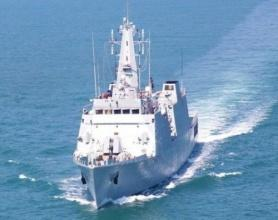warship: (69, 14, 198, 208)
